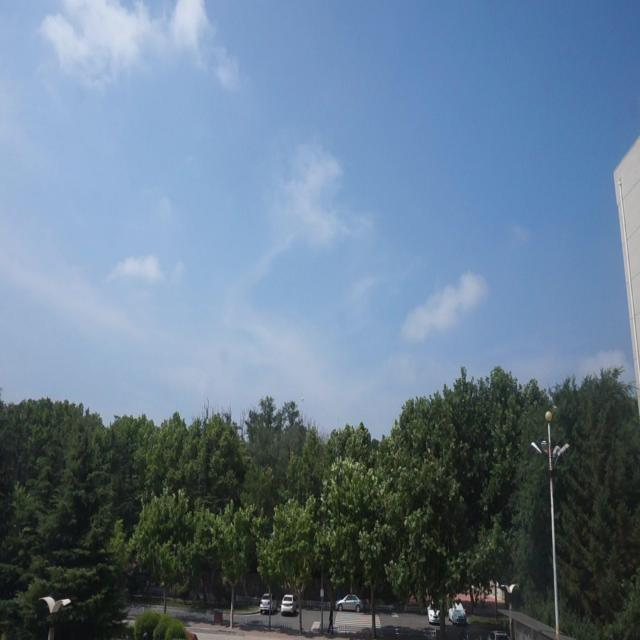UAV: (300, 398, 304, 402)
